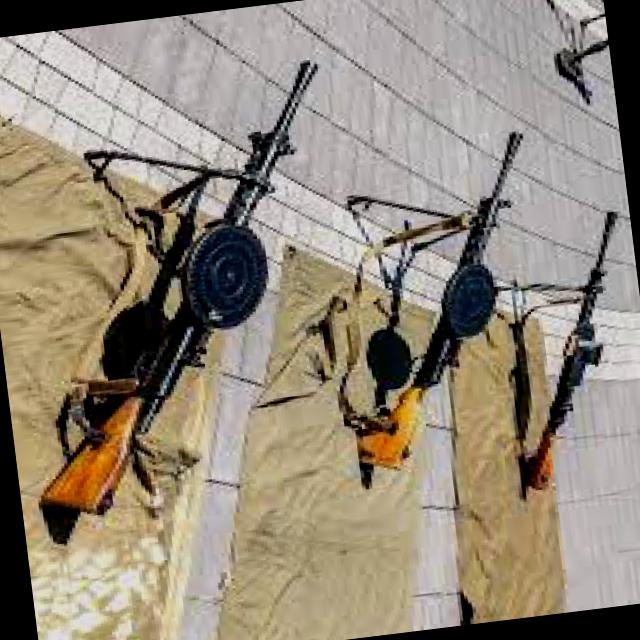long weapon: (26, 39, 370, 548), (319, 84, 563, 477), (501, 201, 633, 502)
